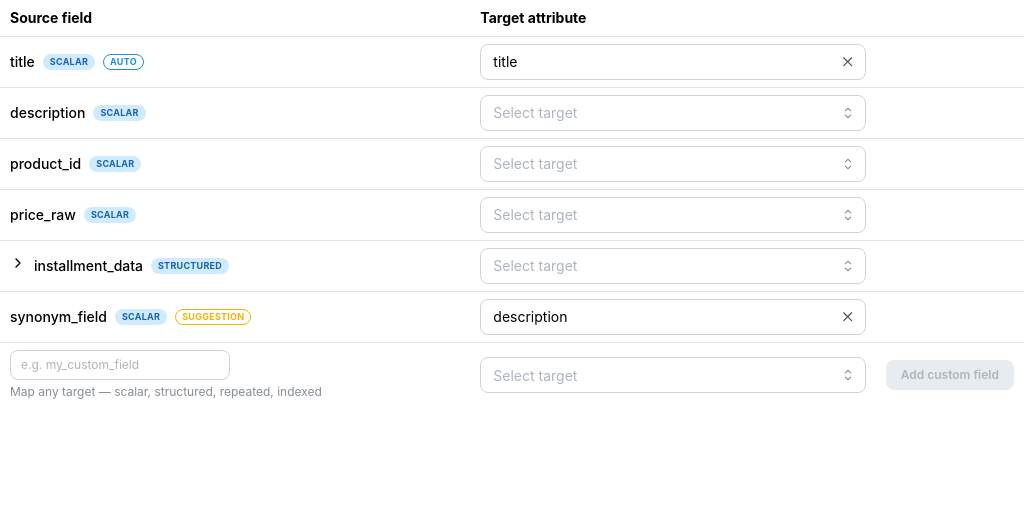
MappingTable › expands a structured row to show sub-field rows
Expected: the text "installment_data" is shown, [34,256,143,276]
Click the button named "Show sub-fields of installment_data" at (18, 266), box [10,253,26,278]
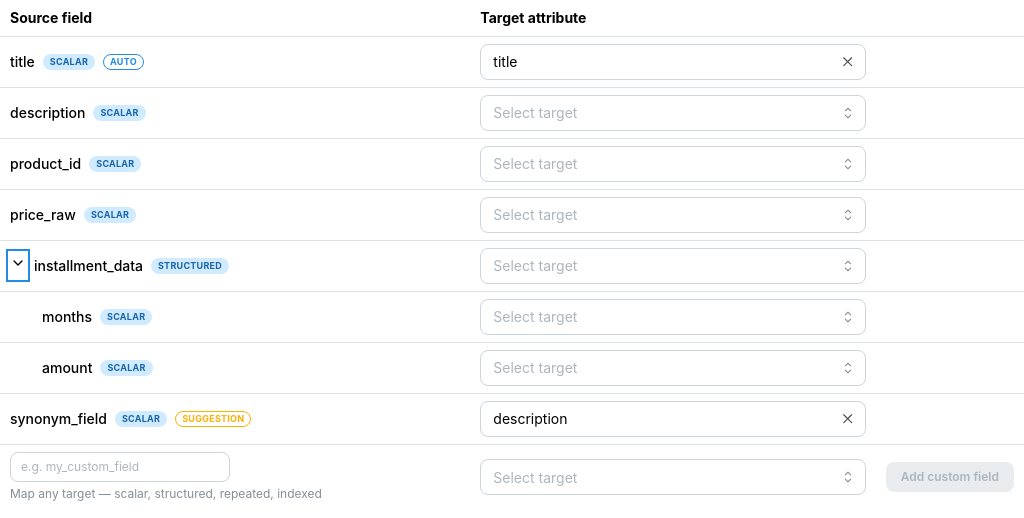
Result: the text "months" is shown at [42,308,92,324]
Result: the text "amount" is shown at [42,358,92,378]
